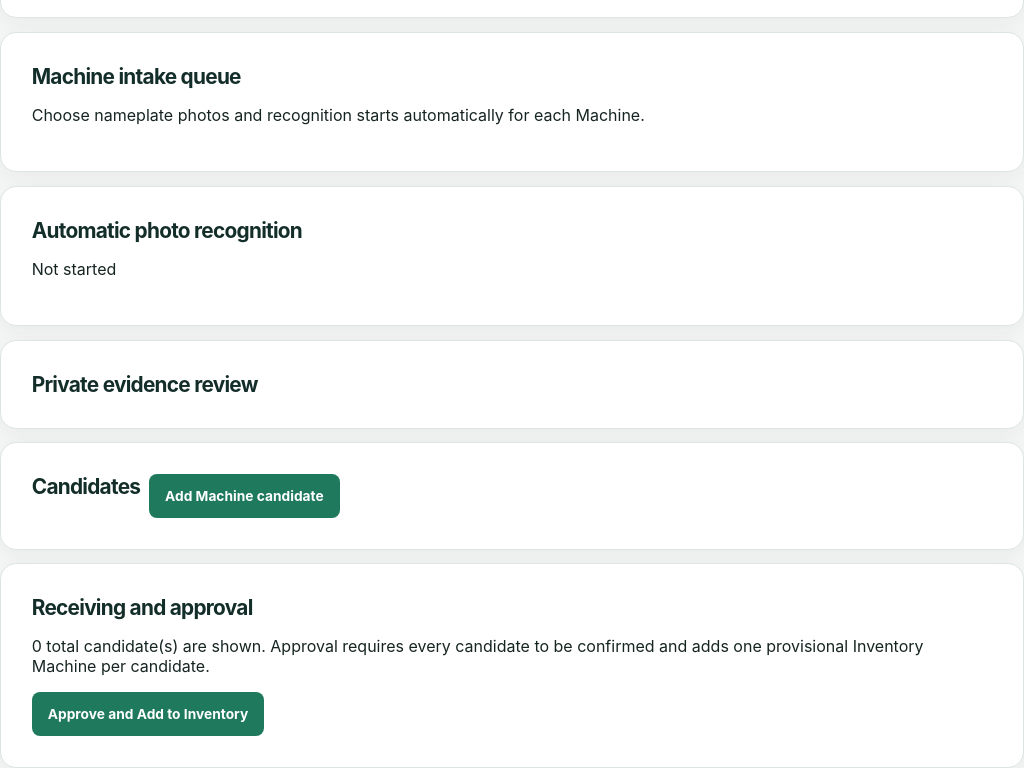
Intake review UI › prevents repeated approval while the Inventory request is in flight
(page scrolled)
Click the button "Approve and Add to Inventory": (148,714) [32,692,264,736]
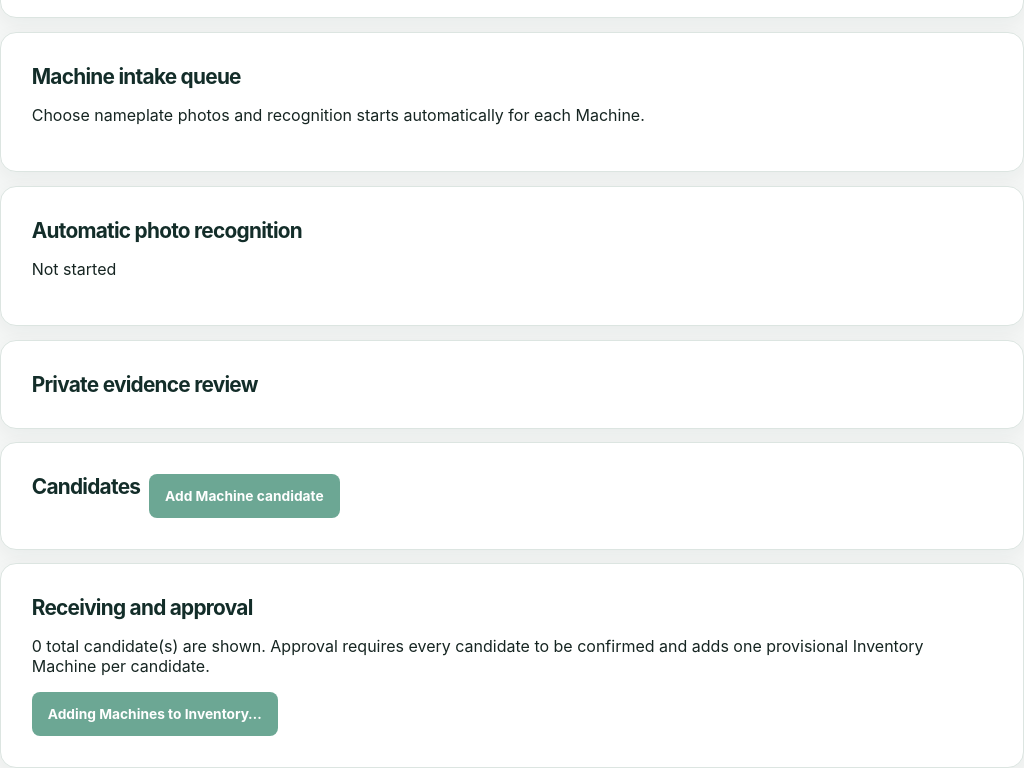
Expected: the button "Adding Machines to Inventory…" is disabled
Click the button "Adding Machines to Inventory…": (155,714) [32,692,278,736]
(page scrolled)
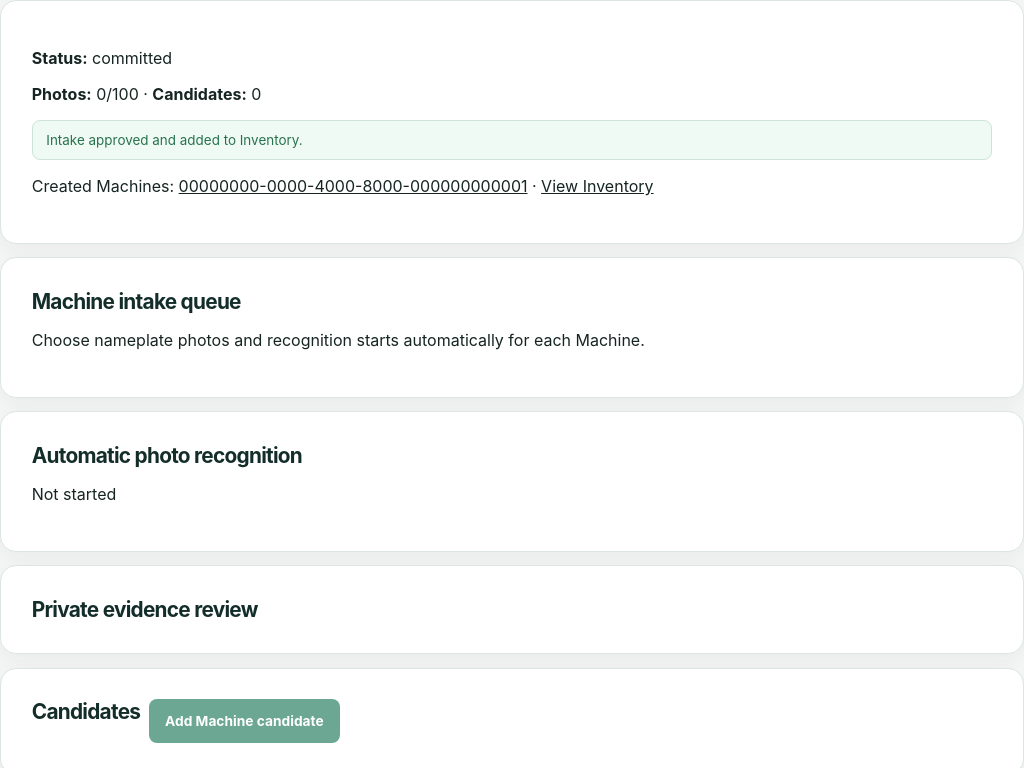
Expected: the text "Intake approved and added to Inventory." is shown, [32,120,992,160]
